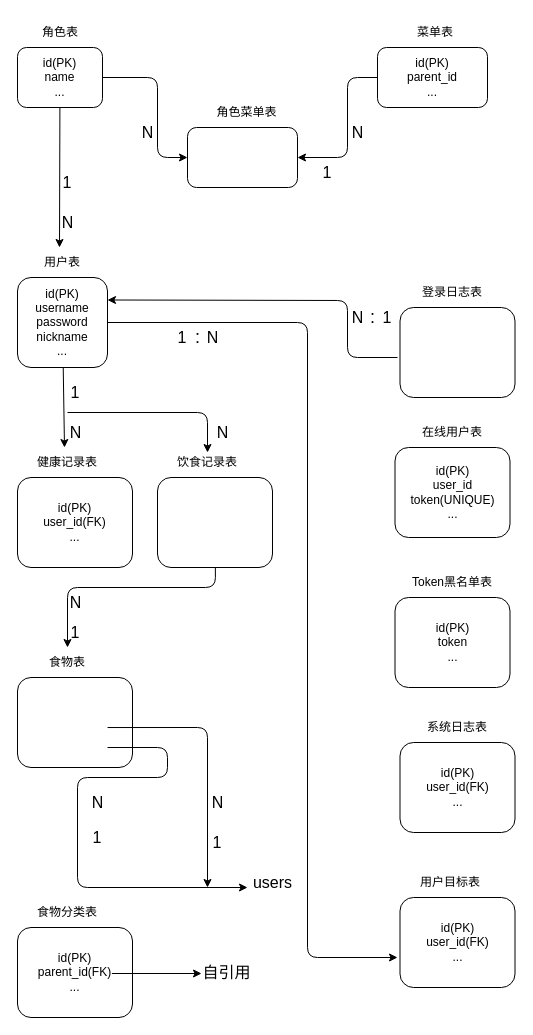
The diagram is 533 pixels wide and 1035 high, and some of its shapes have lost their labels. Here are the shapes that lost their labels. From the top down, the centre of each, then its label:
At point (242, 157): "role_id menu_id ...".
At point (457, 352): "id(PK) user_id ...".
At point (214, 522): "id(PK) user_id(FK) food_id(FK) ...".
At point (74, 722): "id(PK) ... created_by verified_by ...".
